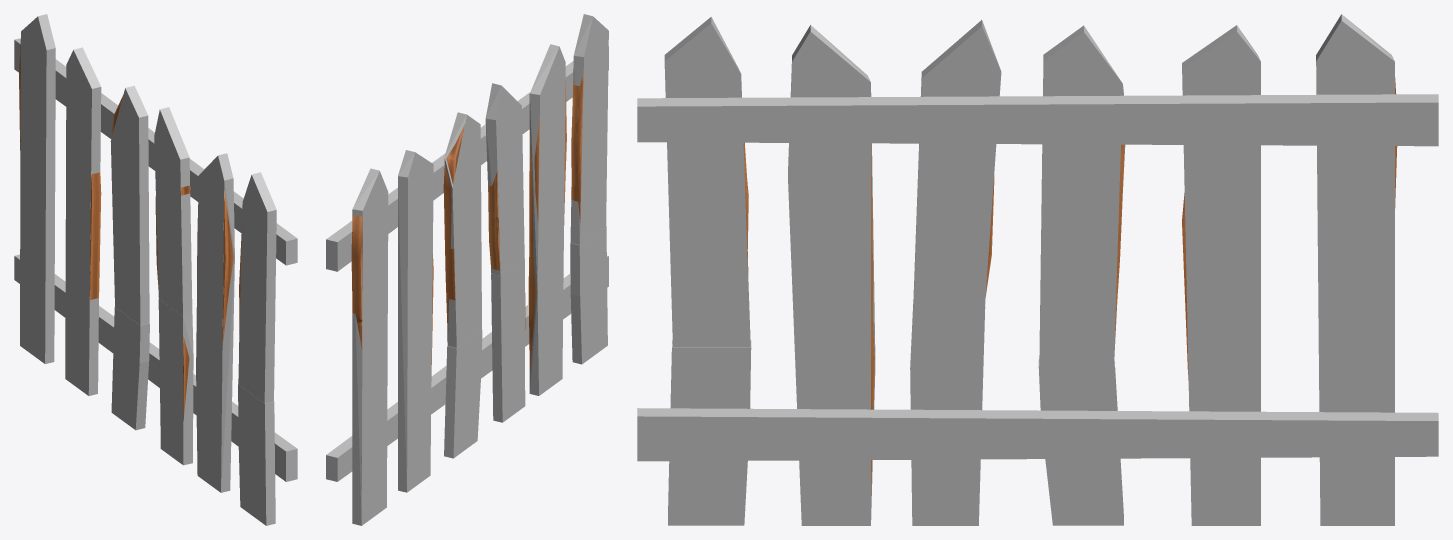
Rendered from SM_Fences02_1.fbx.
3 views of the same model, side by side, from view 1: azimuth 30°, elevation 25°; view 2: azimuth 150°, elevation 25°; view 3: azimuth 270°, elevation 25° (orthographic). The views are drawn at different scales.
Visible parts, largest first — view 1: SM_Fences02_1_ConvexHulls, SM_Fences02_1; view 2: SM_Fences02_1_ConvexHulls, SM_Fences02_1; view 3: SM_Fences02_1_ConvexHulls, SM_Fences02_1.
Boxes of the visible parts, bbox=[...] form: SM_Fences02_1_ConvexHulls: bbox=[14, 14, 297, 525]; SM_Fences02_1: bbox=[19, 39, 241, 420]; SM_Fences02_1_ConvexHulls: bbox=[326, 14, 608, 525]; SM_Fences02_1: bbox=[351, 72, 583, 462]; SM_Fences02_1_ConvexHulls: bbox=[637, 14, 1438, 525]; SM_Fences02_1: bbox=[743, 77, 1397, 494].
Bounding box in the file's own units: 7.9 × 177 × 123.
Materials: 2 (1 with a texture image).
